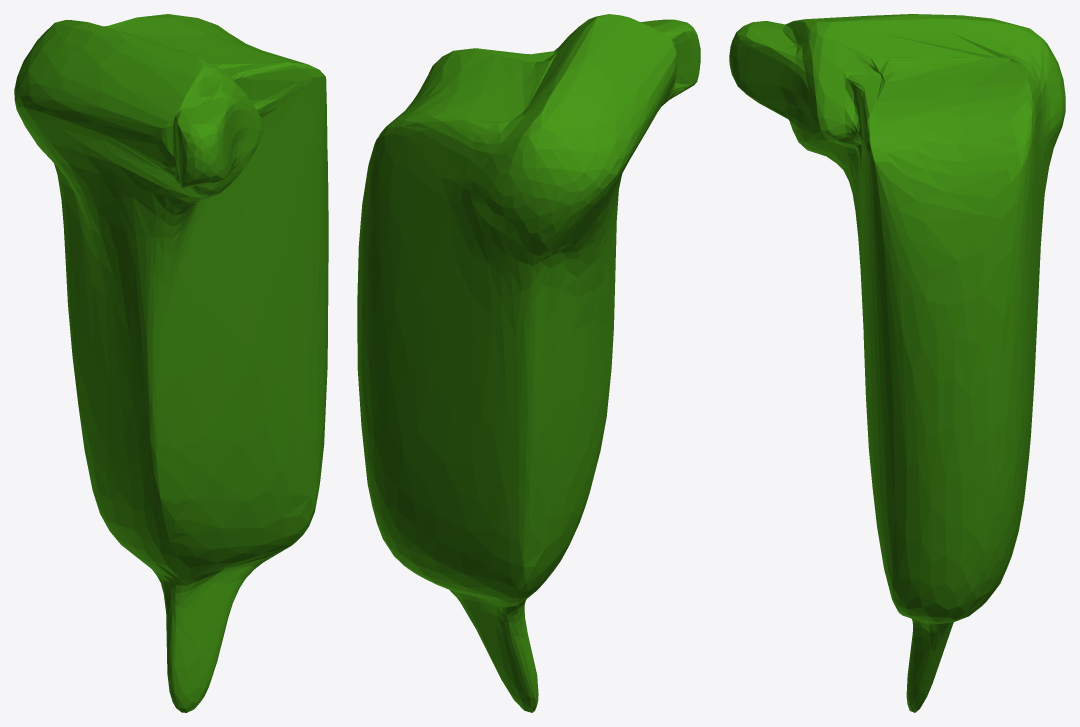
3 renders of one model, left to right at view 1: azimuth 30°, elevation 25°; view 2: azimuth 150°, elevation 25°; view 3: azimuth 270°, elevation 25°, orthographic. The views are drawn at different scales.
Parts seen in each view (by area): view 1: 191_Cube.792; view 2: 191_Cube.792; view 3: 191_Cube.792.
Part boxes in pixels (x1,y1,x2,y2): 191_Cube.792: (14, 14, 328, 712); 191_Cube.792: (357, 14, 700, 712); 191_Cube.792: (729, 14, 1065, 712).
Bounding box in the file's own units: 6.73 × 16.26 × 7.34.
